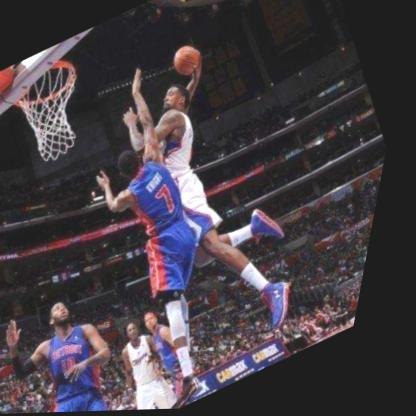basketball: (168, 41, 211, 82)
rim: (0, 52, 115, 169)
